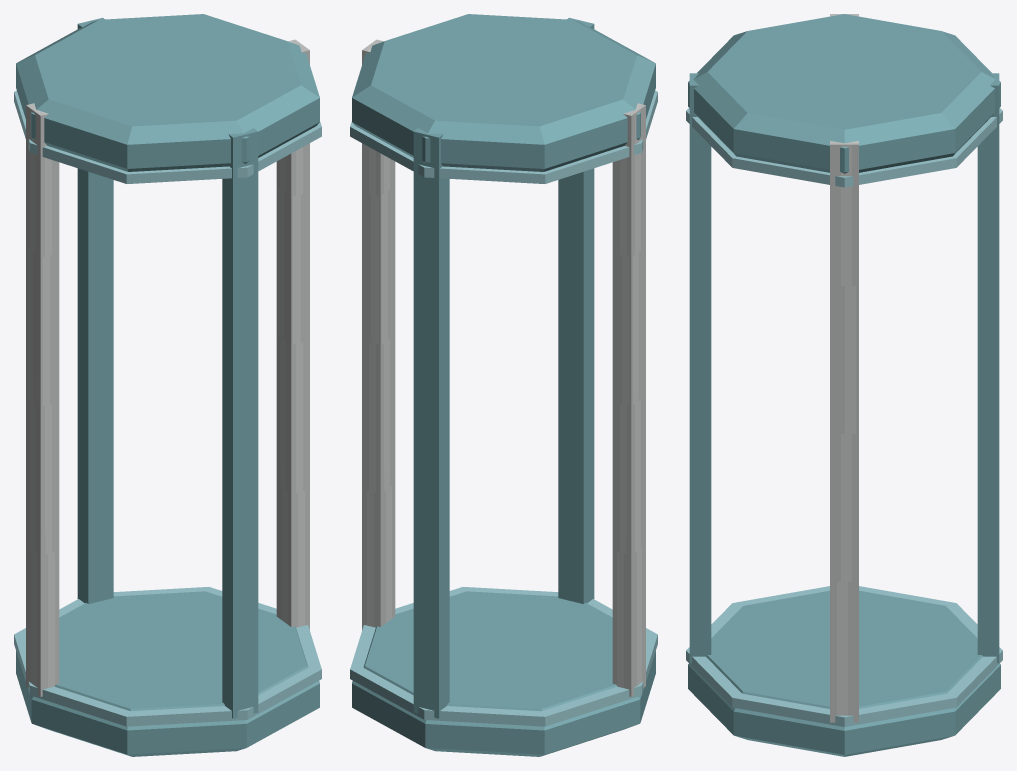
Rendered from frame.obj.
3 renders of one model, left to right at view 1: azimuth 30°, elevation 25°; view 2: azimuth 150°, elevation 25°; view 3: azimuth 270°, elevation 25°, orthographic.
Visible parts, largest first — view 1: copper_frame_rails, upper_copper_end_plate, lower_copper_end_plate; view 2: copper_frame_rails, upper_copper_end_plate, lower_copper_end_plate; view 3: upper_copper_end_plate, copper_frame_rails, lower_copper_end_plate.
Part boxes in pixels (bbox=[...]): copper_frame_rails: bbox=[26, 17, 309, 718]; upper_copper_end_plate: bbox=[14, 14, 321, 183]; lower_copper_end_plate: bbox=[14, 587, 321, 756]; copper_frame_rails: bbox=[362, 17, 645, 718]; upper_copper_end_plate: bbox=[350, 14, 657, 183]; lower_copper_end_plate: bbox=[350, 587, 657, 756]; upper_copper_end_plate: bbox=[686, 14, 1002, 187]; copper_frame_rails: bbox=[689, 14, 999, 722]; lower_copper_end_plate: bbox=[686, 586, 1002, 756].
Bounding box in the file's own units: 0.3138 × 0.685 × 0.3138.
